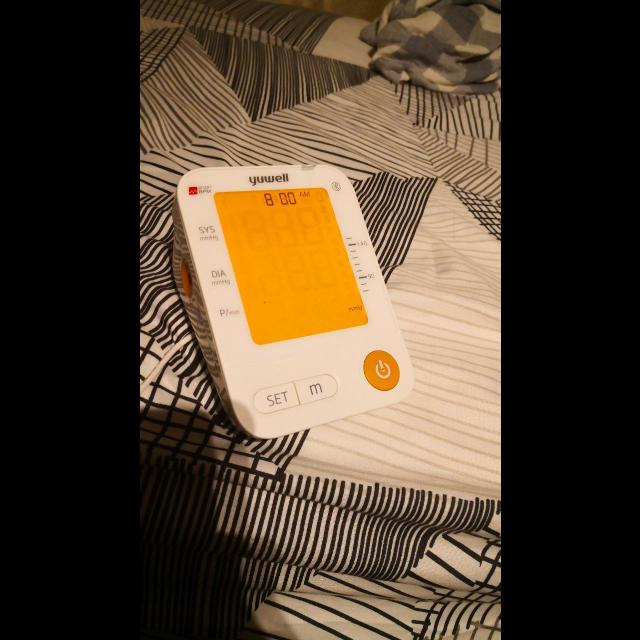Blood-Pressure-Monitor: (176, 163, 414, 437)
